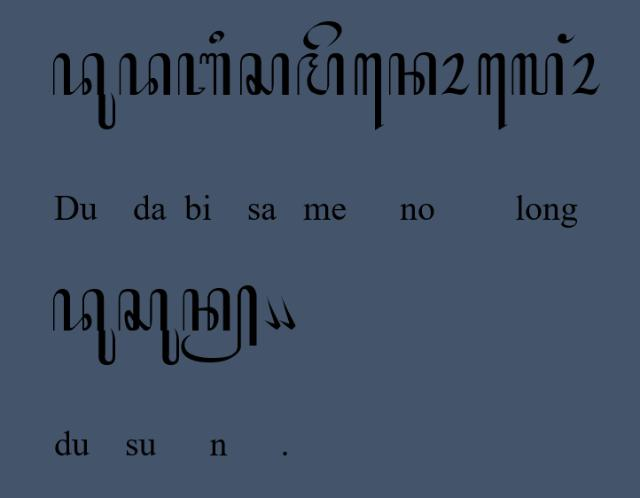-n: (180, 284, 260, 364)
b: (176, 51, 234, 97)
d: (118, 51, 172, 97)
du: (51, 50, 117, 132), (51, 288, 118, 366)
e: (302, 18, 343, 50)
e1: (476, 52, 508, 132), (354, 50, 384, 132)
i: (208, 29, 226, 45)
kom: (278, 292, 298, 330), (262, 294, 282, 330)
l: (510, 50, 566, 98)
m: (296, 50, 346, 98)
n: (387, 52, 439, 99)
ng: (555, 31, 577, 45)
o: (568, 52, 600, 96), (440, 52, 470, 96)
s: (238, 52, 292, 98)
su: (118, 288, 180, 366)
